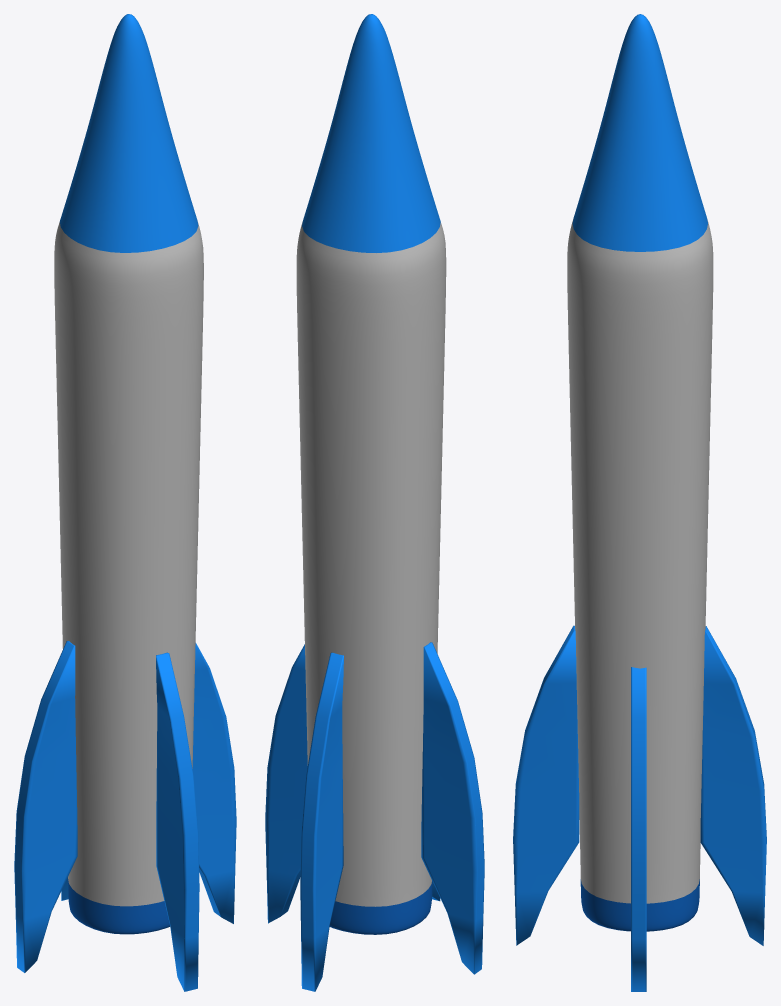
File: rocket.obj
The picture shows the model from 3 angles, left to right: view 1: azimuth 30°, elevation 25°; view 2: azimuth 150°, elevation 25°; view 3: azimuth 270°, elevation 25°; orthographic projection.
Parts seen in each view (by area): view 1: Body, Fing.003, Fing, Fing.001; view 2: Body, Fing.003, Fing.002, Fing.001; view 3: Body, Fing, Fing.002, Fing.001.
Part boxes in pixels (<box>): Body: <box>54,14,203,934</box>; Fing.003: <box>14,641,77,972</box>; Fing: <box>156,652,199,991</box>; Fing.001: <box>192,643,236,923</box>; Body: <box>296,14,446,934</box>; Fing.003: <box>421,642,484,974</box>; Fing.002: <box>300,652,343,991</box>; Fing.001: <box>265,644,307,923</box>; Body: <box>567,14,713,931</box>; Fing: <box>513,625,579,945</box>; Fing.002: <box>700,626,766,945</box>; Fing.001: <box>631,667,646,991</box>.
Size of the model in its own units: 0.7736 by 3.23 by 0.7993.
